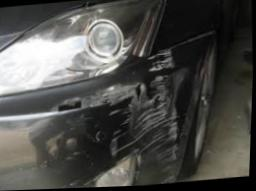Bumper: (56, 31, 213, 189)
